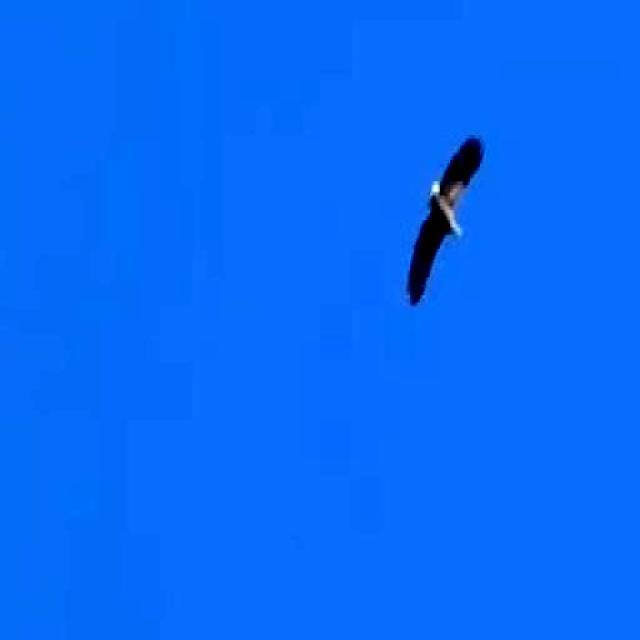airplane: (395, 116, 491, 324)
